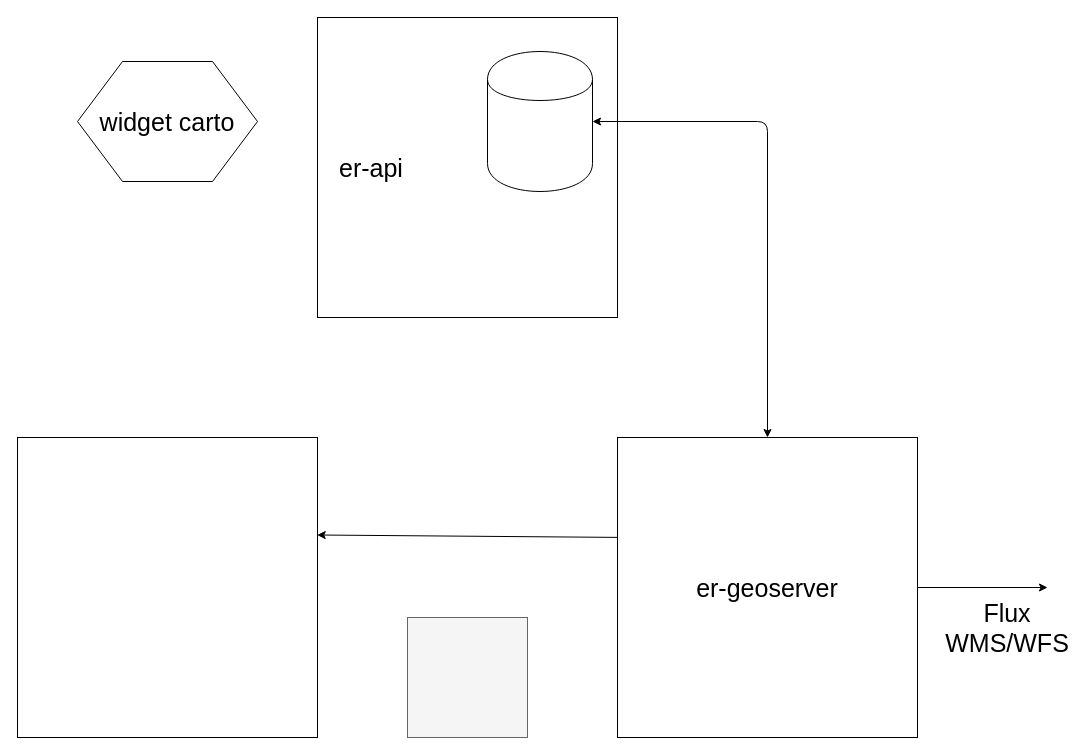
Some shapes in this 1087 by 755 pixel diagram are drawn without their labels. Here are the shapes that lost their labels. From the top down, the box of each, then its label:
(16, 436, 318, 738): er-prod
(406, 616, 528, 738): er-dev
